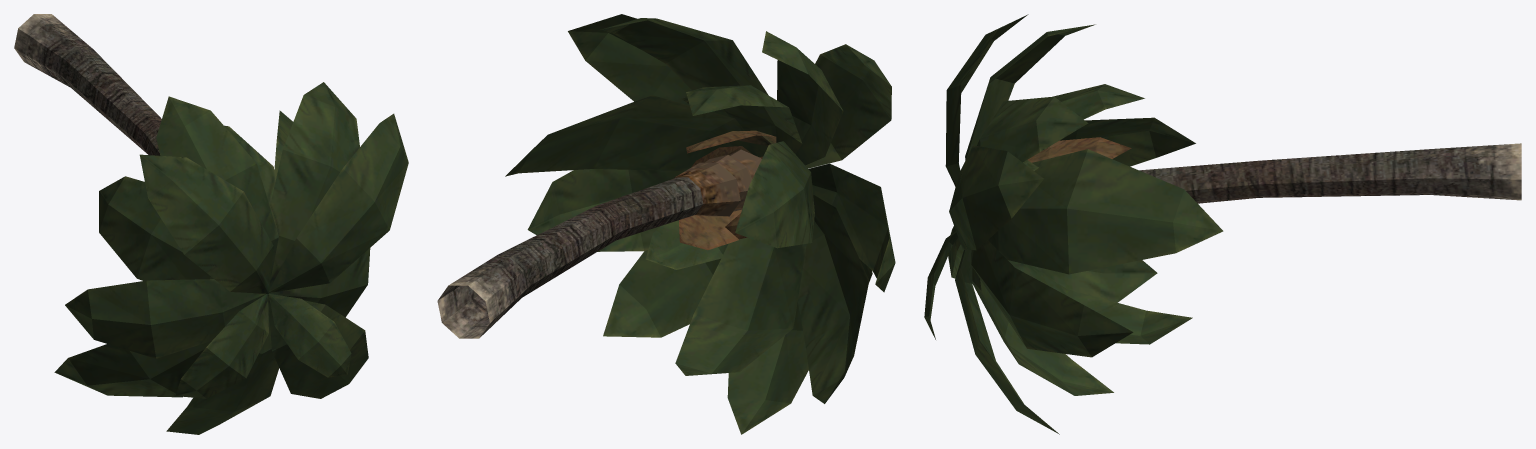
File: palm_tree.obj
The picture shows the model from 3 angles, left to right: view 1: azimuth 30°, elevation 25°; view 2: azimuth 150°, elevation 25°; view 3: azimuth 270°, elevation 25°; orthographic projection. The views are drawn at different scales.
Visible parts, largest first — view 1: 00D4_zlib_0; view 2: 00D4_zlib_0; view 3: 00D4_zlib_0.
Boxes of the visible parts, bbox=[...] form: 00D4_zlib_0: bbox=[14, 14, 408, 434]; 00D4_zlib_0: bbox=[437, 14, 895, 434]; 00D4_zlib_0: bbox=[924, 14, 1521, 434].
Bounding box in the file's own units: 208 × 224 × 334.
